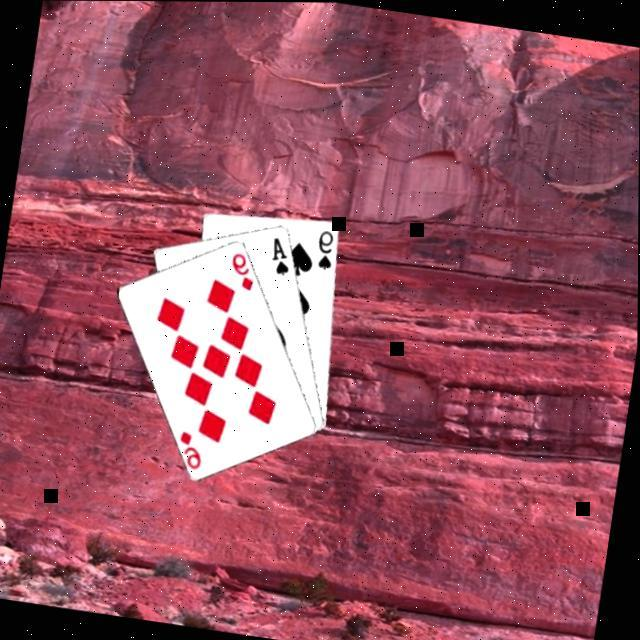9D: (226, 245, 262, 291), (174, 425, 210, 471)
9S: (313, 225, 340, 271)
AS: (267, 232, 297, 277)
